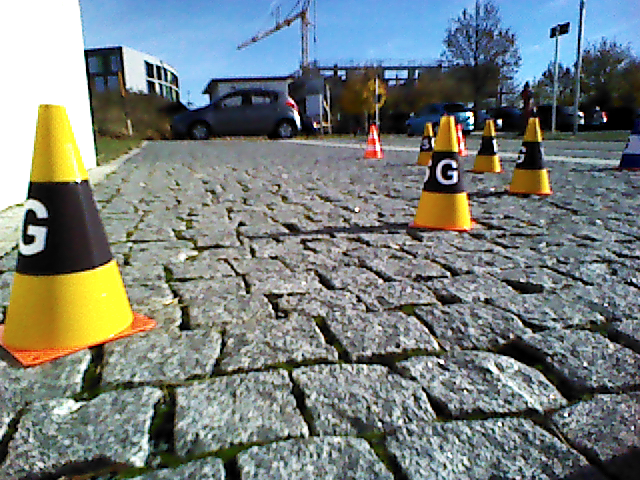bluecone: (619, 118, 640, 167)
orangeconesmall: (362, 124, 385, 160)
yellowcone: (5, 103, 128, 348), (419, 117, 471, 227), (513, 118, 548, 191), (475, 120, 503, 171), (419, 122, 435, 166)
